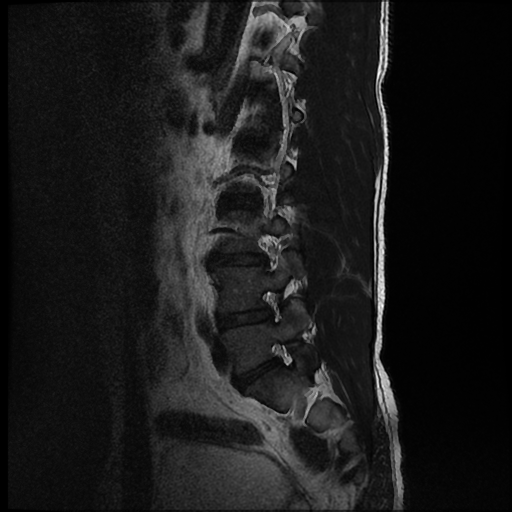LFS1: (262, 329, 302, 380), (255, 279, 289, 328)
